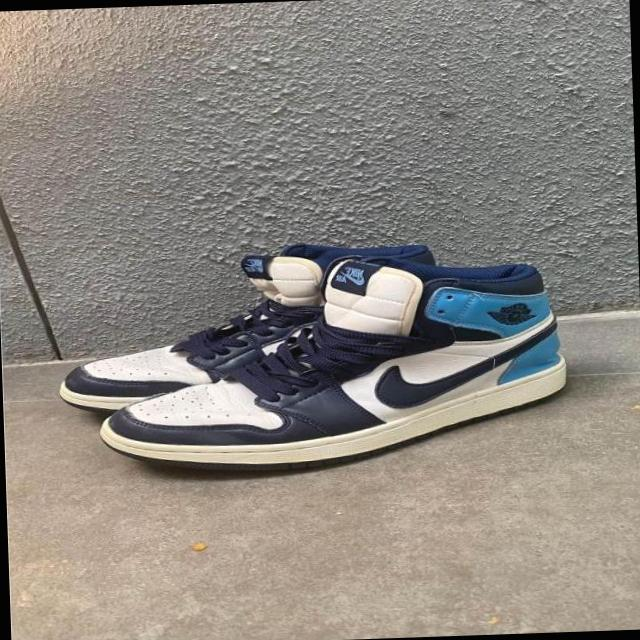nike_fake_jordan: (90, 246, 570, 479), (52, 237, 440, 418)
